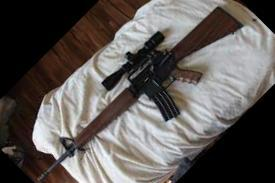larga: (36, 5, 244, 183)
